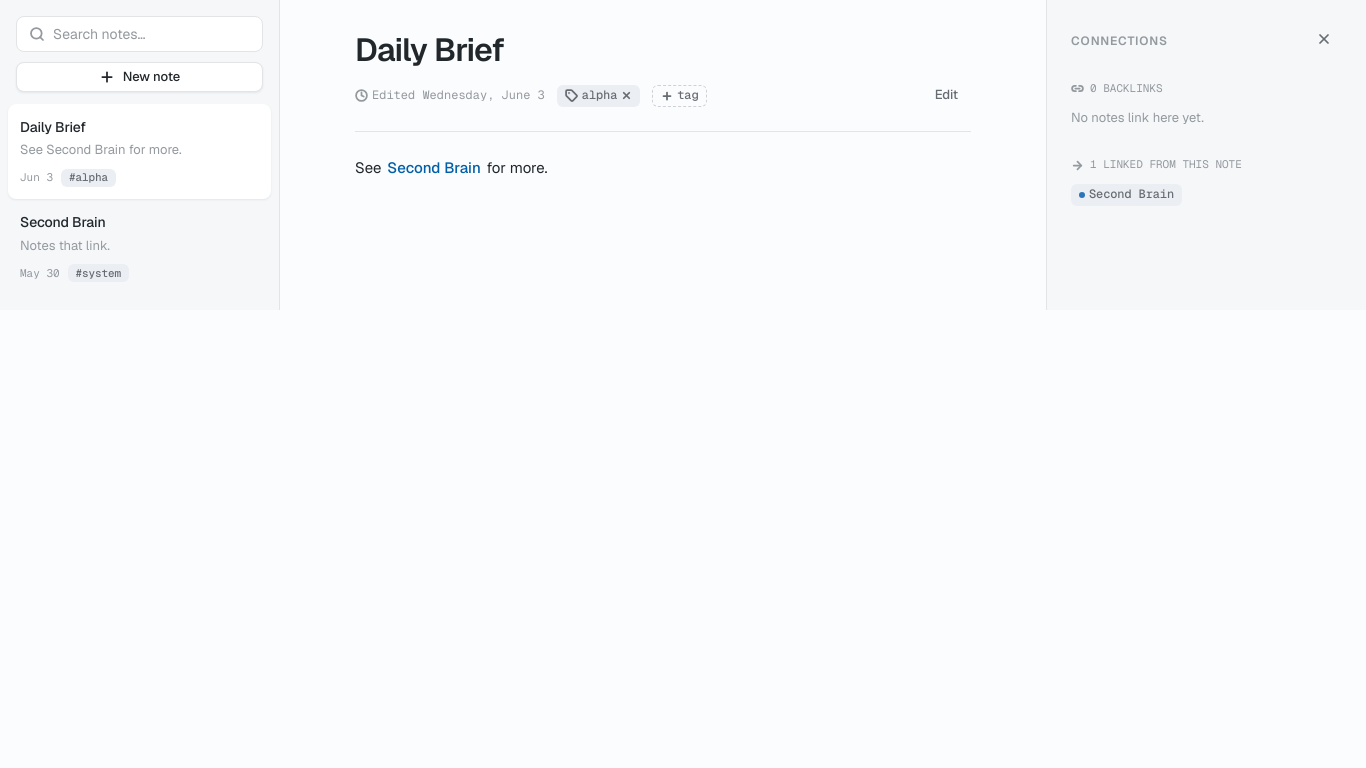
Test: Brain — navigation & editing › toggles the editor textarea with Edit
Click the button "Edit": {"x": 946, "y": 96} [922,81,971,111]
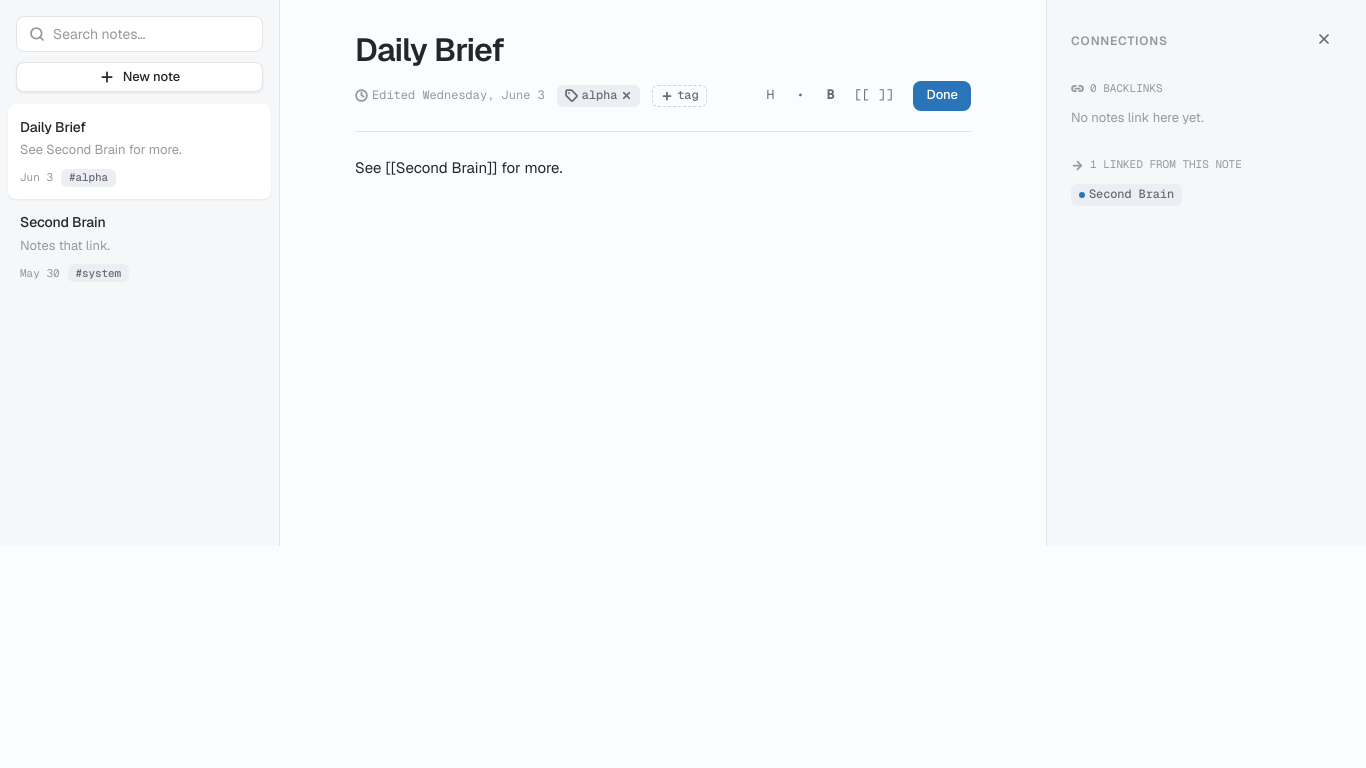
Expected: the text box with placeholder "Start writing…" is shown, [355,156,971,476]
